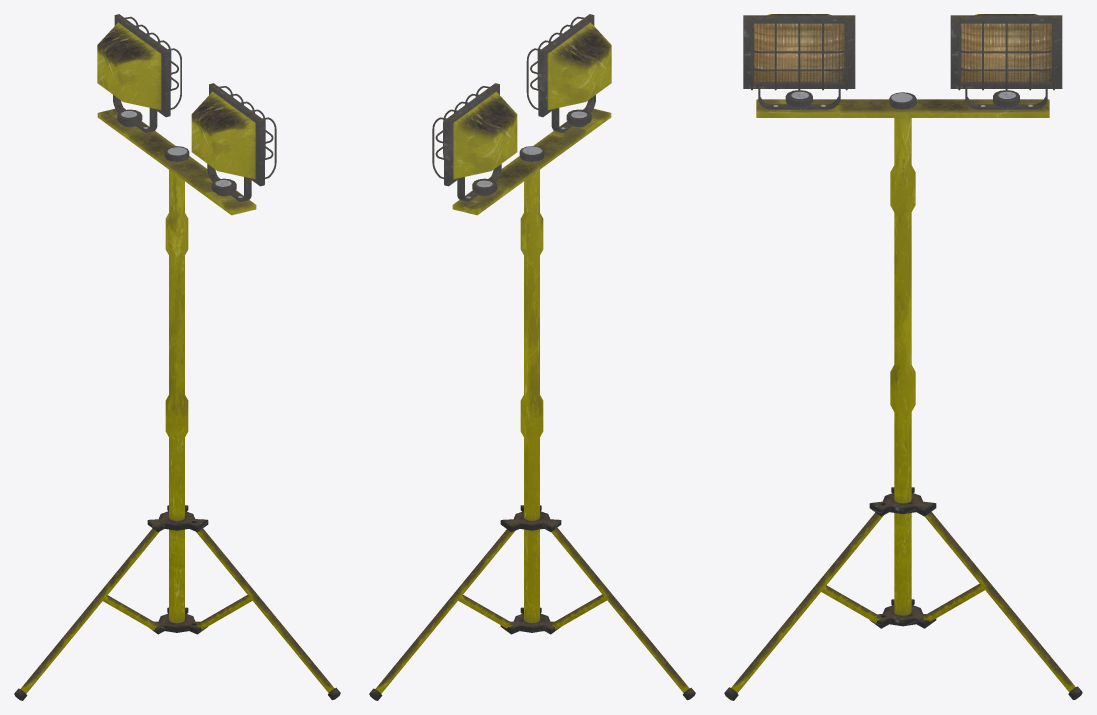
File: Light.fbx
3 views of the same model, side by side, from view 1: azimuth 30°, elevation 25°; view 2: azimuth 150°, elevation 25°; view 3: azimuth 270°, elevation 25° (orthographic). The views are drawn at different scales.
Parts seen in each view (by area): view 1: polySurface2; view 2: polySurface2; view 3: polySurface2.
Part boxes in pixels (x1,y1,x2,y2): polySurface2: (14, 14, 340, 700); polySurface2: (369, 14, 695, 700); polySurface2: (724, 14, 1082, 700).
Size of the model in its own units: 15.11 by 34.54 by 17.3.
